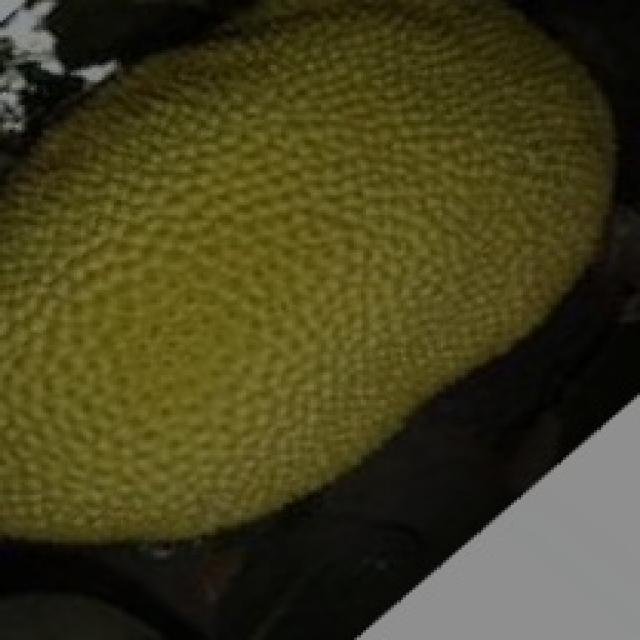Fruit: (206, 0, 640, 368), (0, 235, 412, 622), (0, 0, 400, 382)
